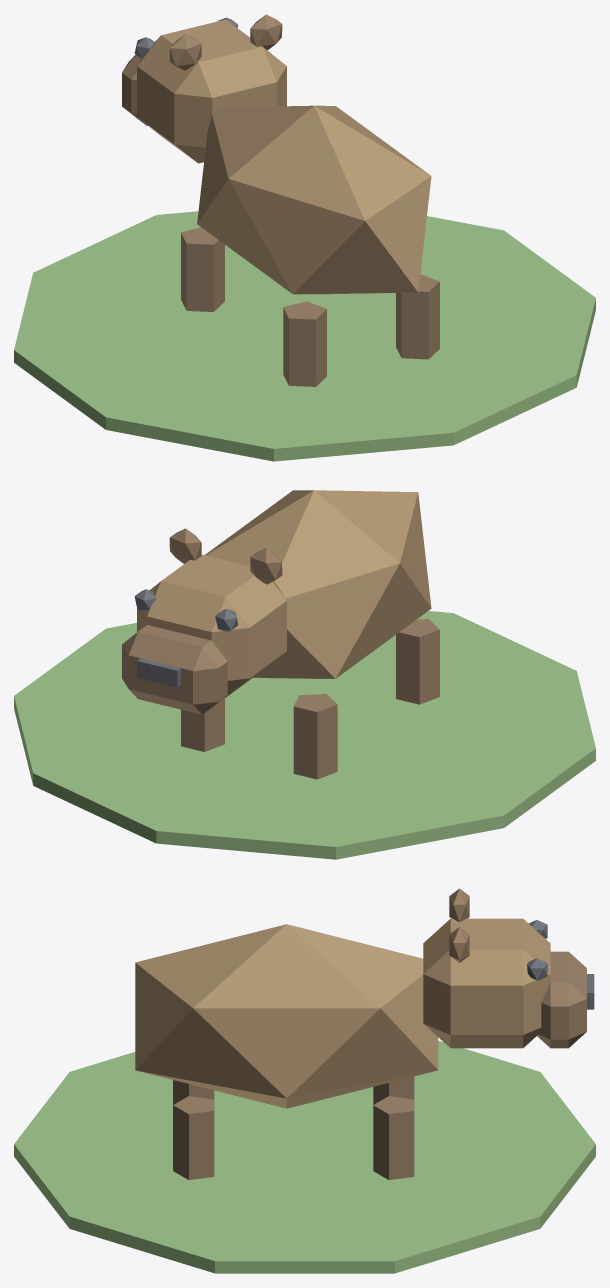
Rendered from beira_rio__capivara.glb.
The picture shows the model from 3 angles, top to bottom: view 1: azimuth 30°, elevation 25°; view 2: azimuth 150°, elevation 25°; view 3: azimuth 270°, elevation 25°; orthographic projection. The views are drawn at different scales.
Parts seen in each view (by area): view 1: beira_rio__capivara; view 2: beira_rio__capivara; view 3: beira_rio__capivara.
Part boxes in pixels (bbox=[...]): beira_rio__capivara: bbox=[14, 14, 595, 461]; beira_rio__capivara: bbox=[14, 490, 595, 859]; beira_rio__capivara: bbox=[14, 888, 595, 1273].
Size of the model in its own units: 0.6087 by 0.302 by 0.64.
